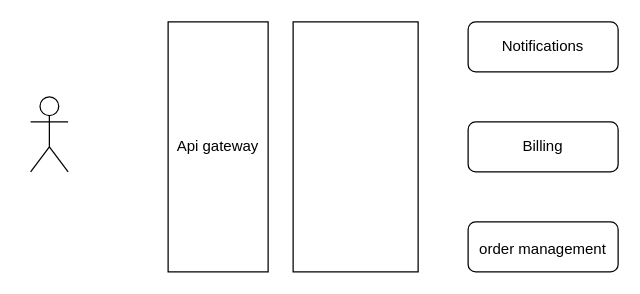
This 640x294 diagram has some shape labels left out. The box of each missing label's shape, as (x1, y1, x2, y2) in pixels:
frontend: (29, 96, 68, 172)
service registry/discovery+ Load balancer: (292, 21, 418, 272)
